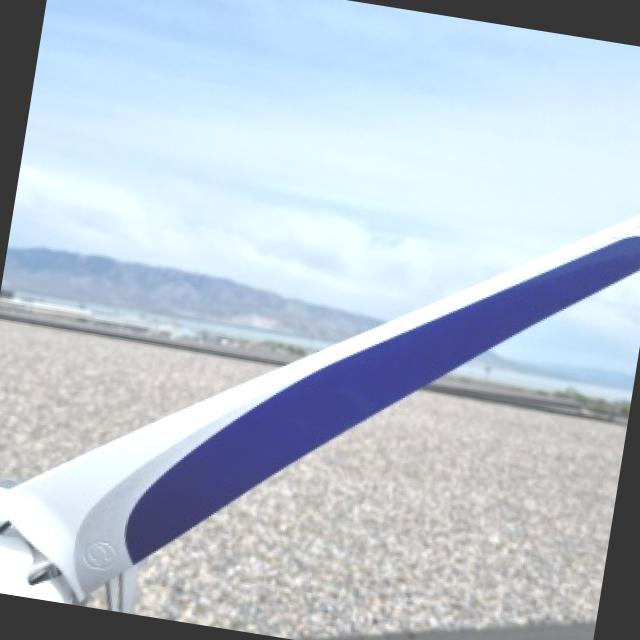healthy: (0, 216, 640, 609)
